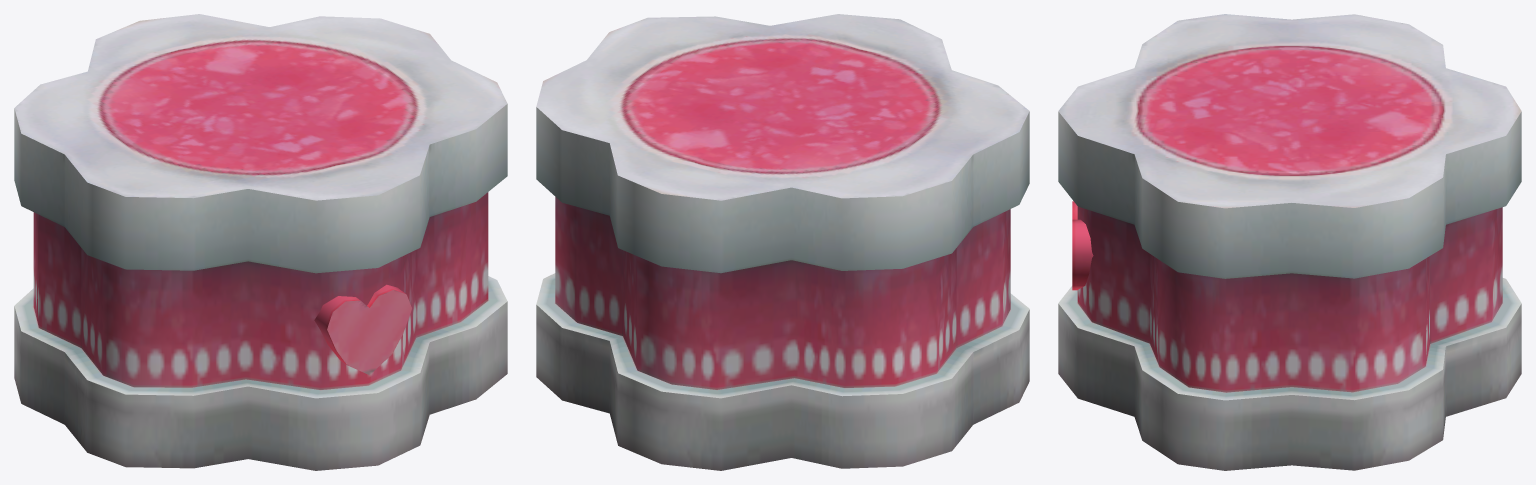
Rendered from furni_0200014.FBX.
3 views of the same model, side by side, from view 1: azimuth 30°, elevation 25°; view 2: azimuth 150°, elevation 25°; view 3: azimuth 270°, elevation 25° (orthographic). The views are drawn at different scales.
Parts seen in each view (by area): view 1: furni_0200014; view 2: furni_0200014; view 3: furni_0200014.
Part boxes in pixels (left/top/right/bottom): furni_0200014: left=14, top=14, right=507, bottom=470; furni_0200014: left=536, top=14, right=1029, bottom=470; furni_0200014: left=1058, top=14, right=1521, bottom=470.
Bounding box in the file's own units: 79.39 × 50 × 79.99.
